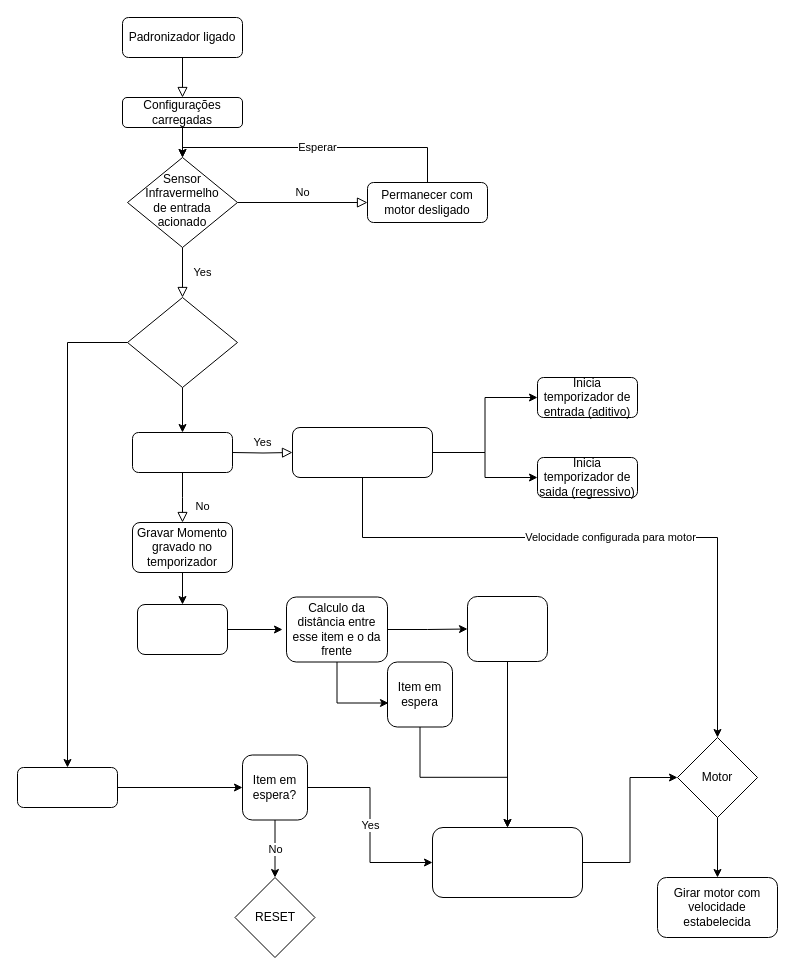
Some shapes in this 795 by 975 pixel diagram are drawn without their labels. Each missing label, with the centre of its shape:
Configurar velocidade de giro para a velocidade alvo: point 362,452
Configurar velocidade do motor baseado na distância do item, que está armazenada: point 507,862
DIstância armazenada: point 507,629
Microcontrolador: point 182,342
Primeiro Item: point 182,452
Temporizador de saida zerado: point 67,787
Zerar Temporizador: point 182,629
